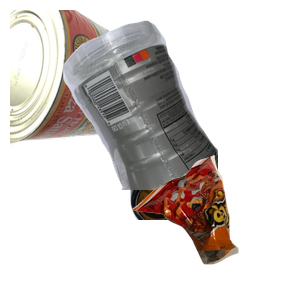glass: (115, 120, 300, 300)
metal: (10, 10, 159, 152)
plastic: (60, 18, 300, 198)
trash: (130, 153, 300, 300)
